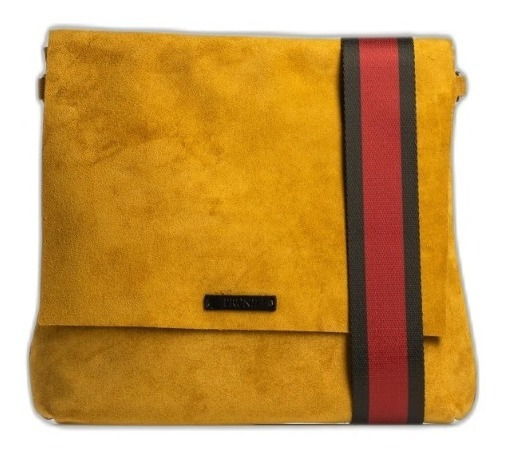cartera: (28, 24, 479, 427)
